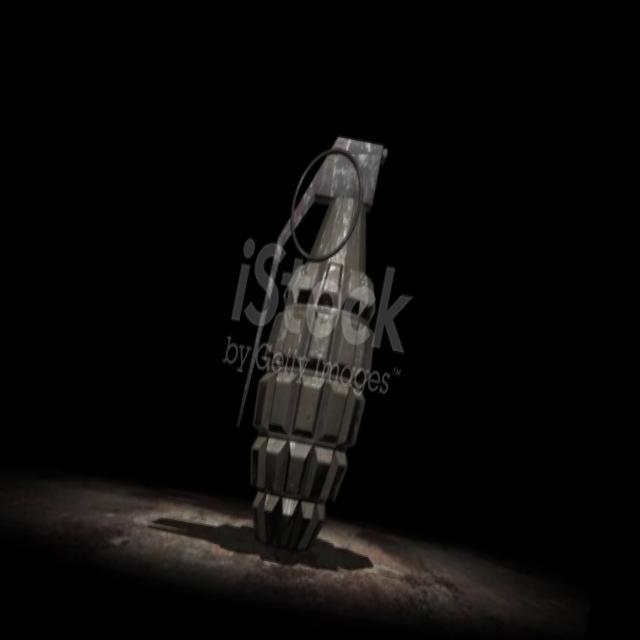grenade: (213, 124, 414, 564)
